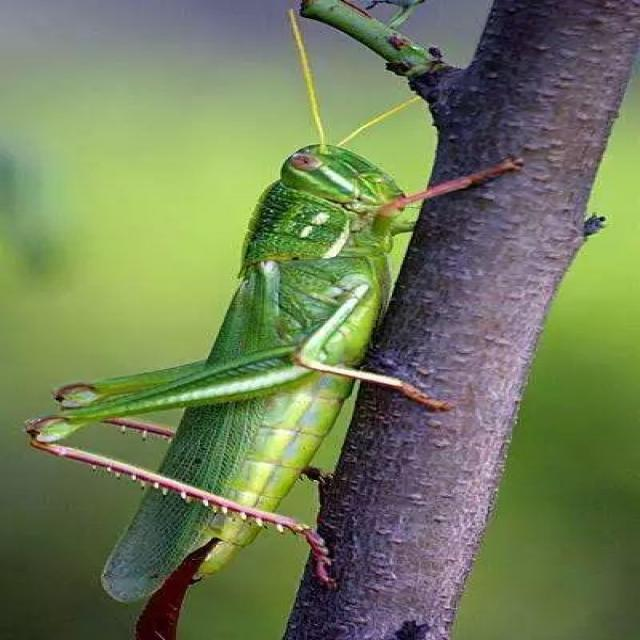ZhaMeng: (109, 106, 434, 604)
